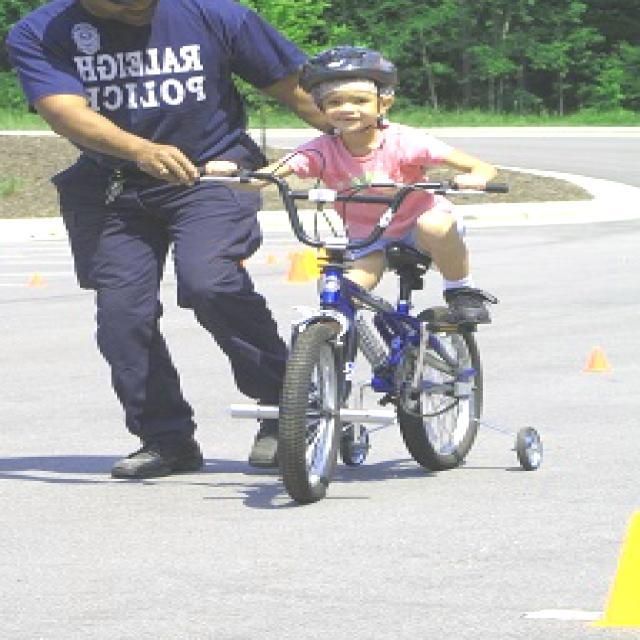Helmet: (294, 46, 409, 133)
